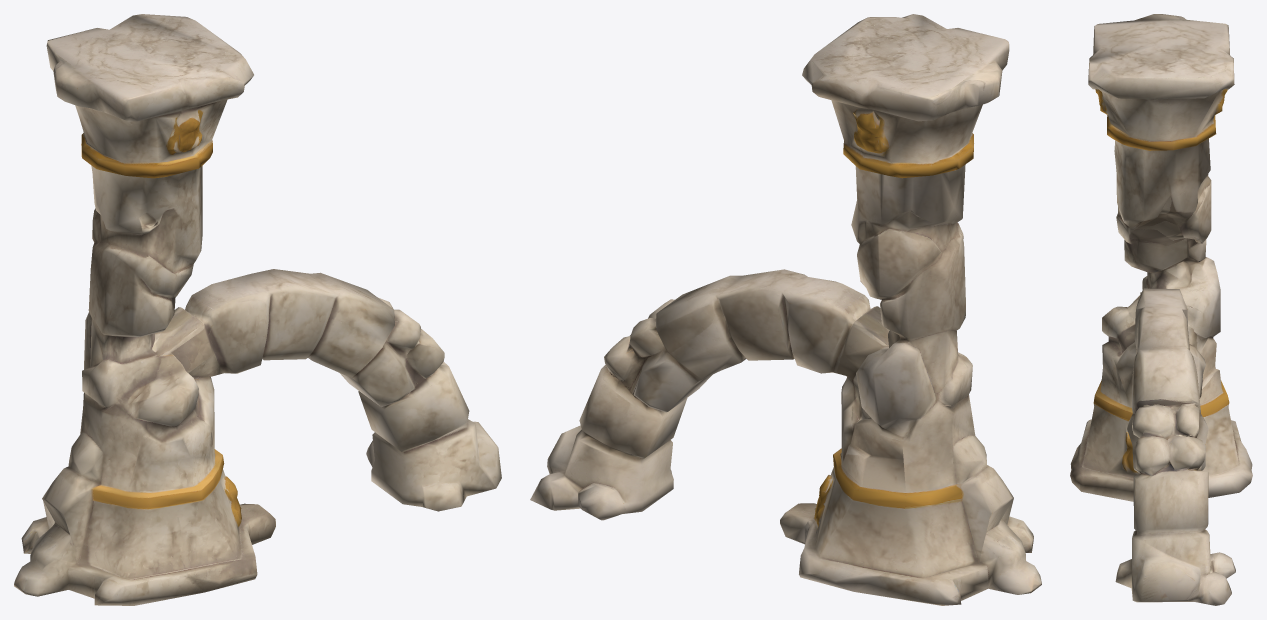
File: irrhakur_ruins_2.glb
3 renders of one model, left to right at view 1: azimuth 30°, elevation 25°; view 2: azimuth 150°, elevation 25°; view 3: azimuth 270°, elevation 25°, orthographic. The views are drawn at different scales.
Visible parts, largest first — view 1: Mesh_0; view 2: Mesh_0; view 3: Mesh_0.
Part boxes in pixels (x1=…): Mesh_0: x1=14, y1=14, x2=501, y2=605; Mesh_0: x1=530, y1=14, x2=1041, y2=605; Mesh_0: x1=1070, y1=14, x2=1252, y2=605.
Bounding box in the file's own units: 1.87 × 1.91 × 0.7546.
1 material, 1 textured.
